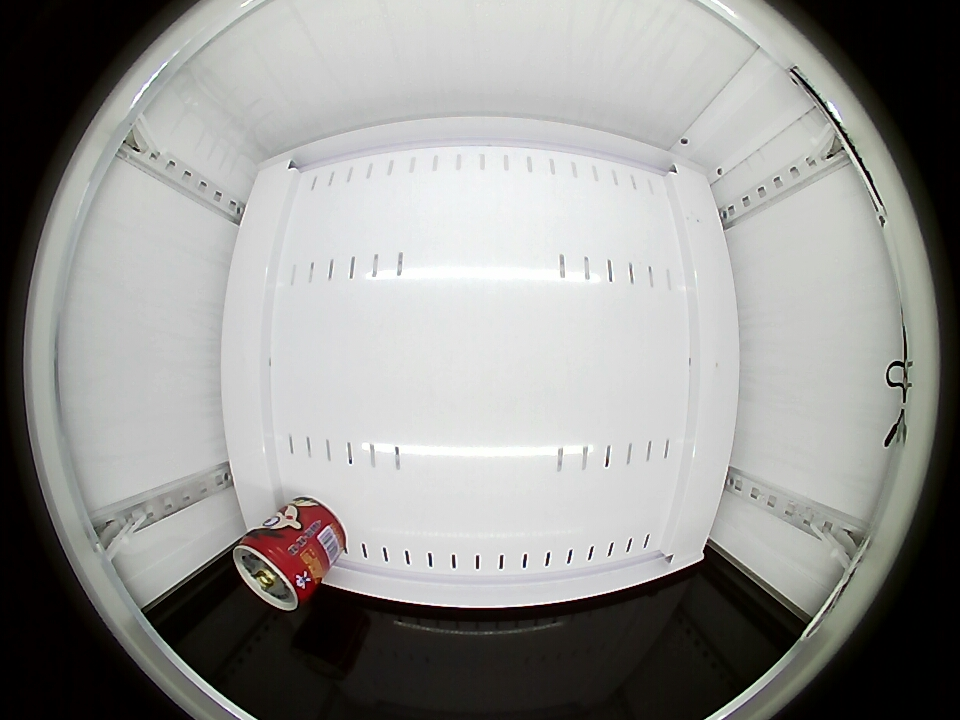wangzainiunai: (233, 526, 319, 611)
